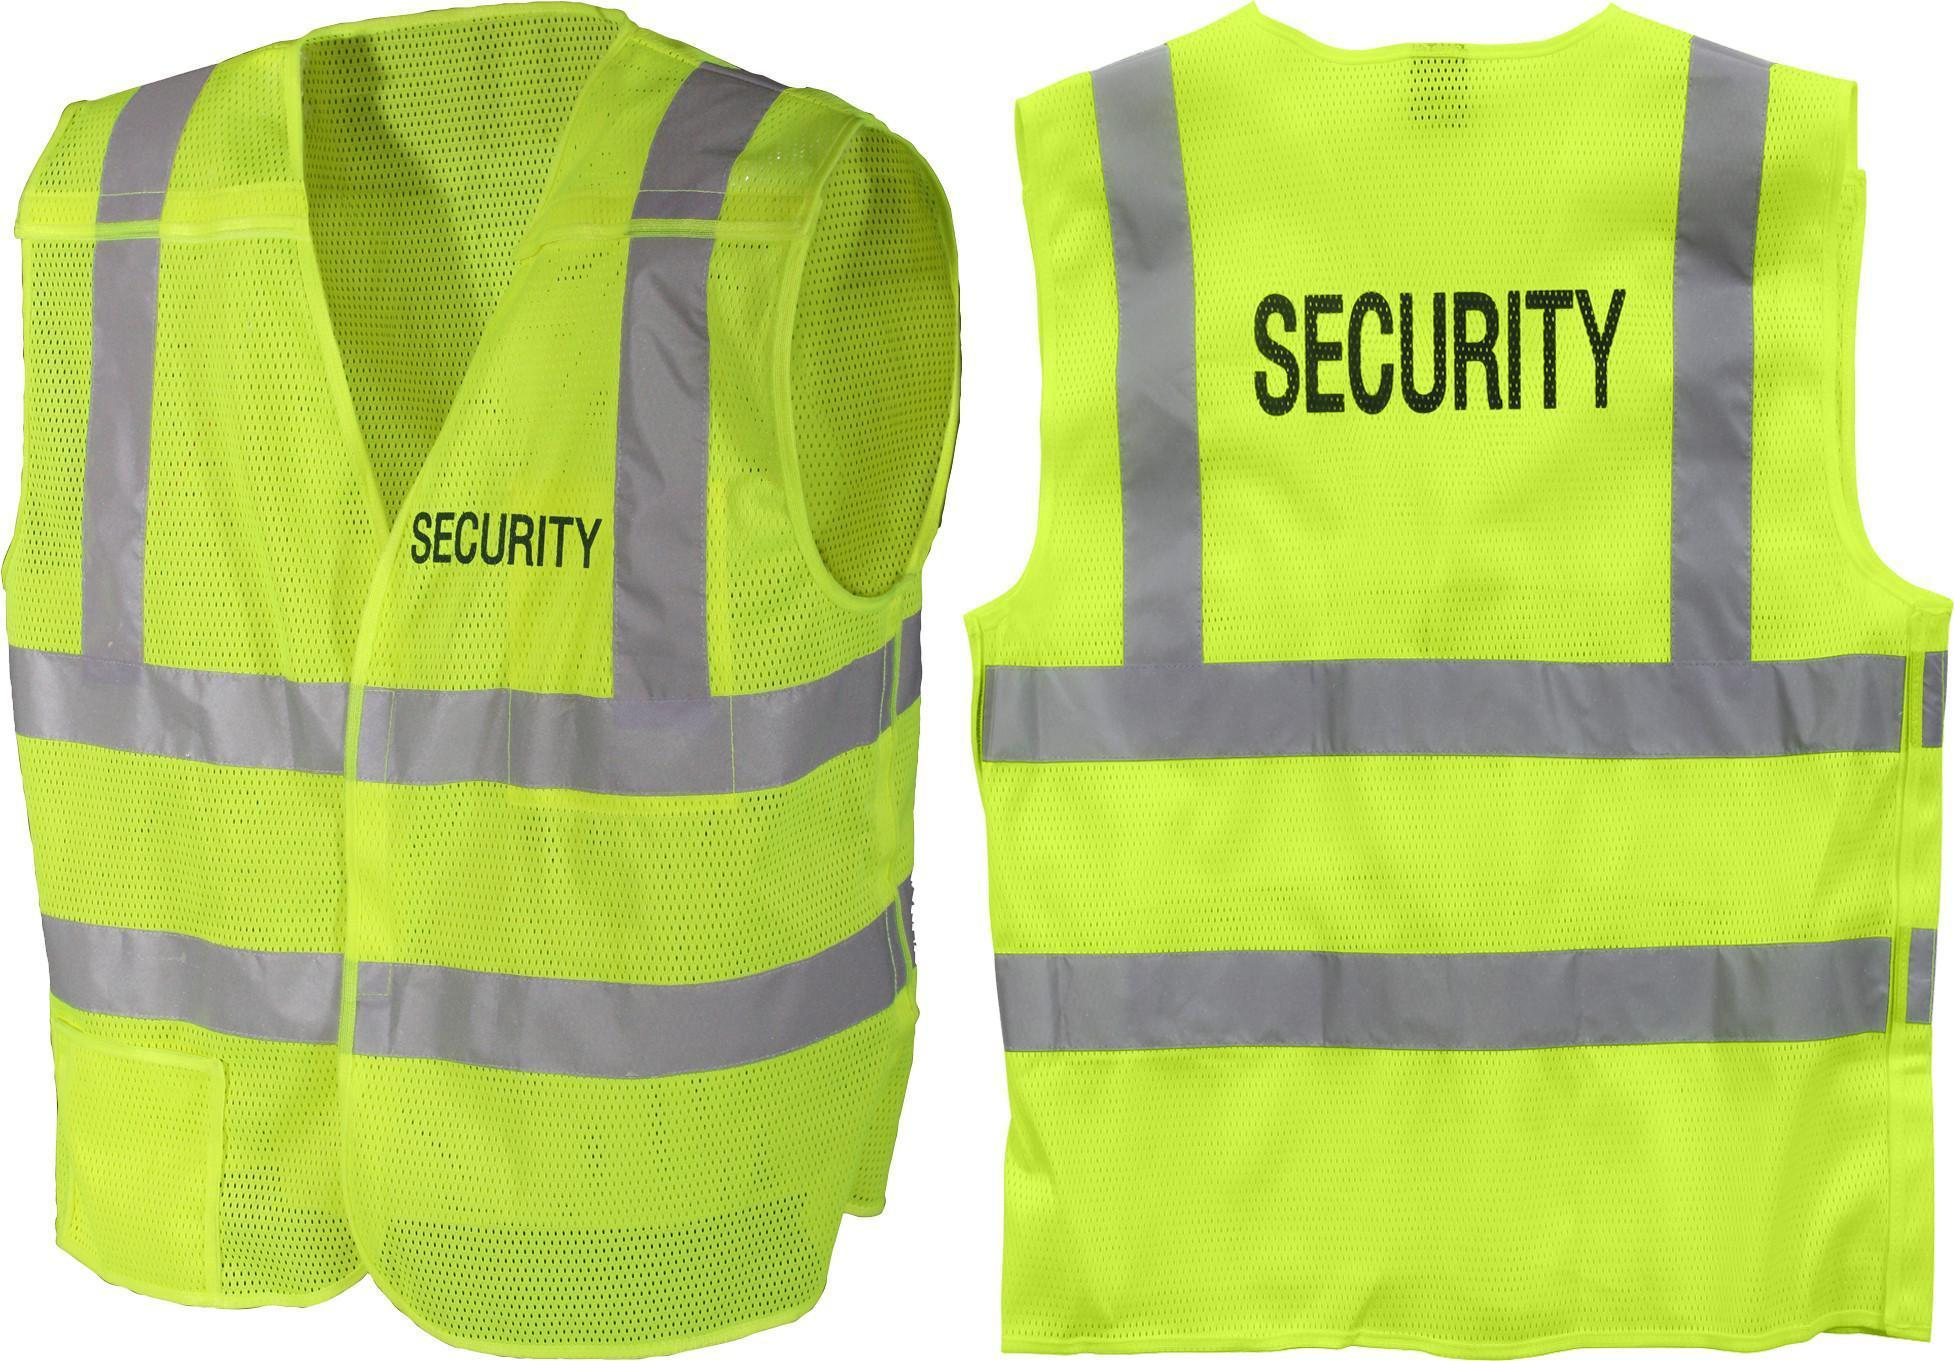vest: (965, 3, 1953, 1351), (7, 7, 967, 1357)
